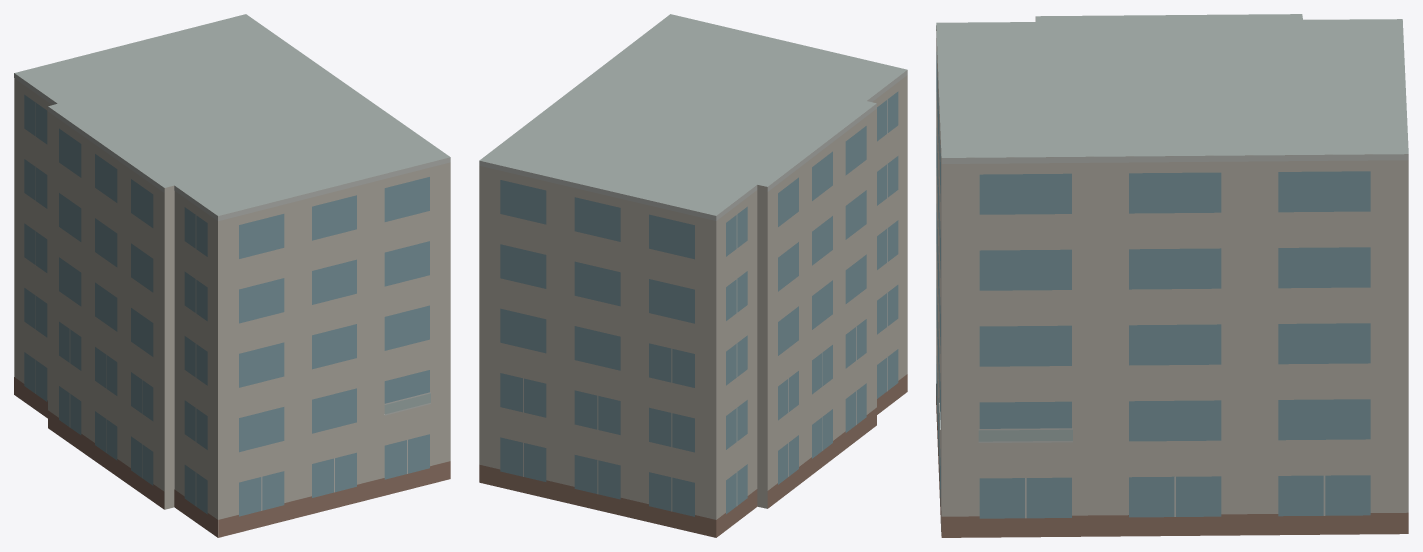
File: survey-upis-32767994.glb
3 views of the same model, side by side, from view 1: azimuth 30°, elevation 25°; view 2: azimuth 150°, elevation 25°; view 3: azimuth 270°, elevation 25° (orthographic). The views are drawn at different scales.
Parts seen in each view (by area): view 1: survey-upis-32767994.tmp; view 2: survey-upis-32767994.tmp; view 3: survey-upis-32767994.tmp.
Boxes of the visible parts, box(x1,y1,x2,y2) form: survey-upis-32767994.tmp: box(14, 14, 450, 537); survey-upis-32767994.tmp: box(479, 14, 907, 537); survey-upis-32767994.tmp: box(936, 14, 1408, 537).
Bounding box in the file's own units: 12.45 × 15.3 × 17.26.
